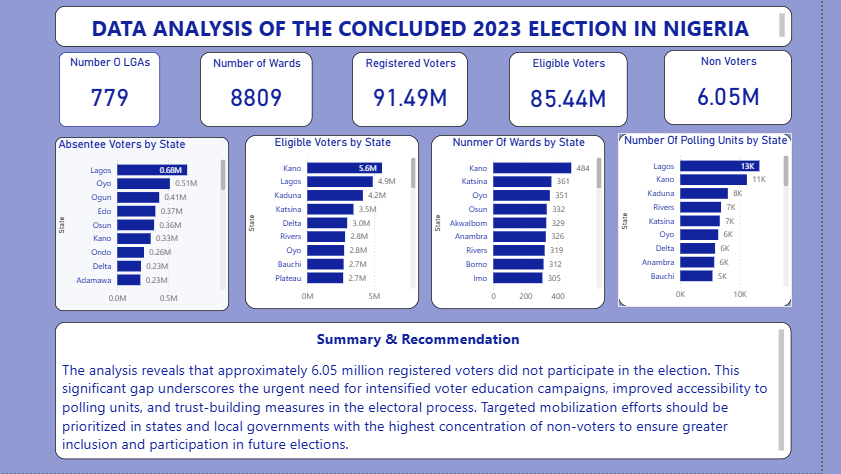

The page's visual inventory and layout, read from the dashboard file:
{"tool":"powerbi","page":{"name":"Page 1","canvas":[1280,720],"ordinal":0},"visuals":[{"type":"card","title":"Number O LGAs","fields":{"Values":["Sum(nigeria_2023_federalConstituencies_data.NoOfLGAs)"]},"box":[140.6,91.6,150.5,111.5],"z":0},{"type":"card","title":"Number of Wards","fields":{"Values":["Sum(nigeria_2023_federalConstituencies_data.NoOfWards)"]},"box":[350.9,90.7,167.8,111.5],"z":1000},{"type":"card","title":"Registered Voters","fields":{"Values":["nigeria_2023_federalConstituencies_data.sumofregisteredvoters"]},"box":[578.5,91.6,173.2,111.5],"z":2000},{"type":"card","title":"Eligible Voters","fields":{"Values":["nigeria_2023_federalConstituencies_data.Sumofeligablevoters"]},"box":[812.5,91.6,176.8,112.4],"z":3000},{"type":"barChart","title":"Eligible Voters by State","fields":{"Category":["nigeria_2023_federalConstituencies_data.State"],"Y":["Sum(nigeria_2023_federalConstituencies_data.EligibleVoters)"]},"box":[418,214.9,260.3,260],"z":4000},{"type":"barChart","title":"Nunmer Of Wards by State","fields":{"Y":["Sum(nigeria_2023_federalConstituencies_data.NoOfWards)"],"Category":["nigeria_2023_federalConstituencies_data.State"]},"box":[695.5,214.9,260,260],"z":5000},{"type":"barChart","title":" Number Of Polling Units by State","fields":{"Category":["nigeria_2023_federalConstituencies_data.State"],"Y":["Sum(nigeria_2023_federalConstituencies_data.NoOfPollingUnits)"]},"box":[974.8,212.2,260,260],"z":6000},{"type":"card","title":"Non Voters","fields":{"Values":["nigeria_2023_federalConstituencies_data.absenteevoters"]},"box":[1043.7,88.9,191.3,112.4],"z":7000},{"type":"textbox","box":[134.2,22.7,1100.9,60.8],"z":8000},{"type":"clusteredBarChart","title":"Absentee Voters by State","fields":{"Category":["nigeria_2023_federalConstituencies_data.State"],"Y":["nigeria_2023_federalConstituencies_data.absenteevoters"]},"box":[135.1,217.6,260,260],"z":9000},{"type":"textbox","box":[135.1,494.2,1099.9,204.9],"z":10000}]}

Visuals, with their boxes in screenshot pixels (x1, y1, x2, y2), scaled from the page's 1280x720 canvas onto the 841x474 screenshot:
"Number O LGAs" card: 92:60:191:134
"Number of Wards" card: 231:60:341:133
"Registered Voters" card: 380:60:494:134
"Eligible Voters" card: 534:60:650:134
"Eligible Voters by State" barChart: 275:141:446:313
"Nunmer Of Wards by State" barChart: 457:141:628:313
" Number Of Polling Units by State" barChart: 640:140:811:311
"Non Voters" card: 686:59:811:133
textbox: 88:15:811:55
"Absentee Voters by State" clusteredBarChart: 89:143:260:314
textbox: 89:325:811:460
